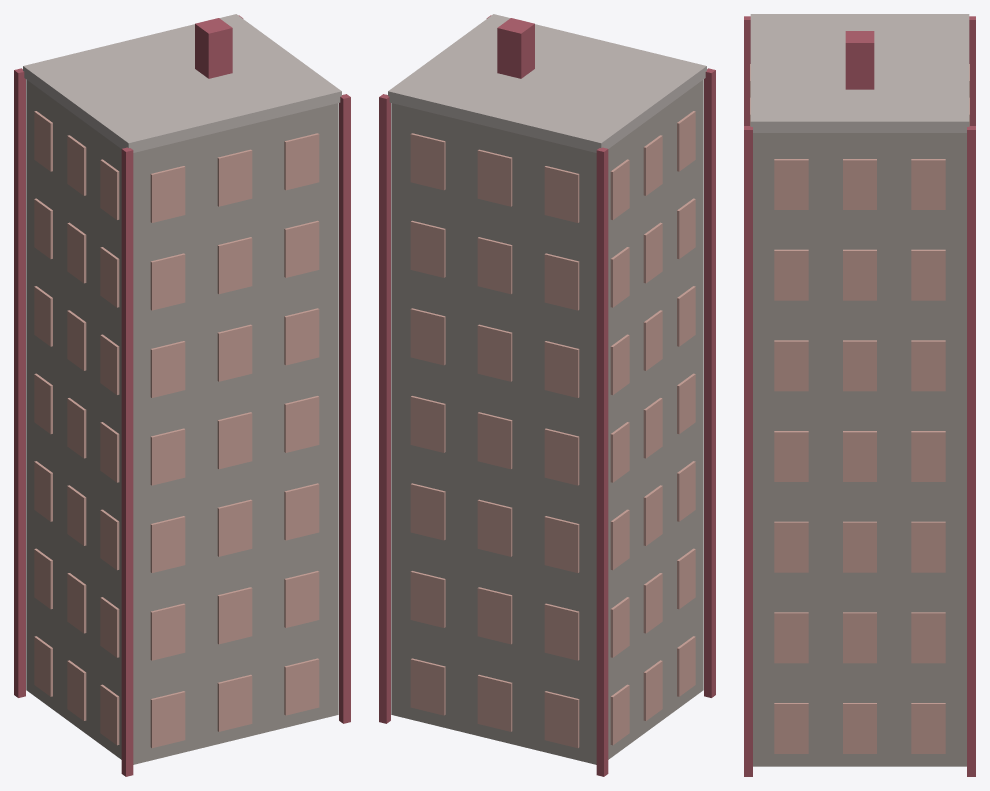
Rendered from office_a.glb.
3 views of the same model, side by side, from view 1: azimuth 30°, elevation 25°; view 2: azimuth 150°, elevation 25°; view 3: azimuth 270°, elevation 25° (orthographic). The views are drawn at different scales.
Bounding box in the file's own units: 7.53 × 21.6 × 6.49.
